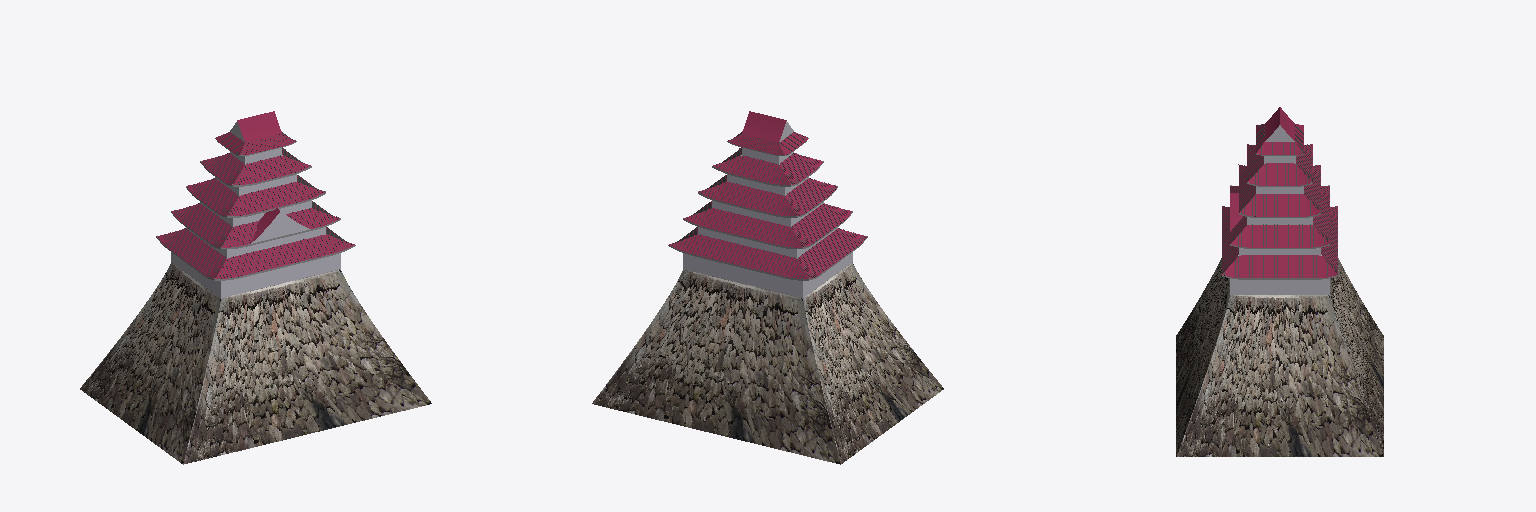
3 renders of one model, left to right at view 1: azimuth 30°, elevation 25°; view 2: azimuth 150°, elevation 25°; view 3: azimuth 270°, elevation 25°, orthographic.
Parts seen in each view (by area): view 1: object 61, object 66, object 405, object 201, object 1, object 537, object 2, object 3, object 246, object 4, object 363, object 5 (+28 smaller); view 2: object 61, object 156, object 324, object 471, object 201, object 1, object 591, object 2, object 3, object 4, object 363, object 5 (+28 smaller); view 3: object 111, object 285, object 61, object 438, object 564, object 1, object 3, object 4, object 5, object 7, object 8, object 9 (+28 smaller).
Boxes of the visible parts, <box> form: object 61: <box>171,252,340,297</box>; object 66: <box>215,234,354,278</box>; object 405: <box>227,182,324,215</box>; object 201: <box>157,229,225,278</box>; object 1: <box>80,387,431,464</box>; object 537: <box>233,156,310,184</box>; object 2: <box>82,385,430,461</box>; object 3: <box>83,383,428,458</box>; object 246: <box>222,208,339,247</box>; object 4: <box>85,381,426,455</box>; object 363: <box>172,204,231,246</box>; object 5: <box>86,379,424,452</box>; object 61: <box>683,252,852,297</box>; object 156: <box>669,234,808,278</box>; object 324: <box>684,208,801,247</box>; object 471: <box>699,182,796,215</box>; object 201: <box>798,229,866,278</box>; object 1: <box>592,387,943,464</box>; object 591: <box>713,156,790,184</box>; object 2: <box>593,385,941,461</box>; object 3: <box>595,383,940,458</box>; object 4: <box>597,381,938,455</box>; object 363: <box>792,203,851,246</box>; object 5: <box>599,379,937,452</box>; object 111: <box>1222,255,1337,277</box>; object 285: <box>1231,225,1328,247</box>; object 61: <box>1230,255,1329,294</box>; object 438: <box>1240,194,1319,216</box>; object 564: <box>1247,163,1312,185</box>; object 1: <box>1176,335,1383,456</box>; object 3: <box>1178,332,1381,451</box>; object 4: <box>1179,331,1380,448</box>; object 5: <box>1180,329,1379,445</box>; object 7: <box>1182,326,1377,440</box>; object 8: <box>1183,324,1376,437</box>; object 9: <box>1184,323,1375,434</box>.
Bounding box in the file's own units: 308 × 331 × 222.
799 materials, 1 textured.